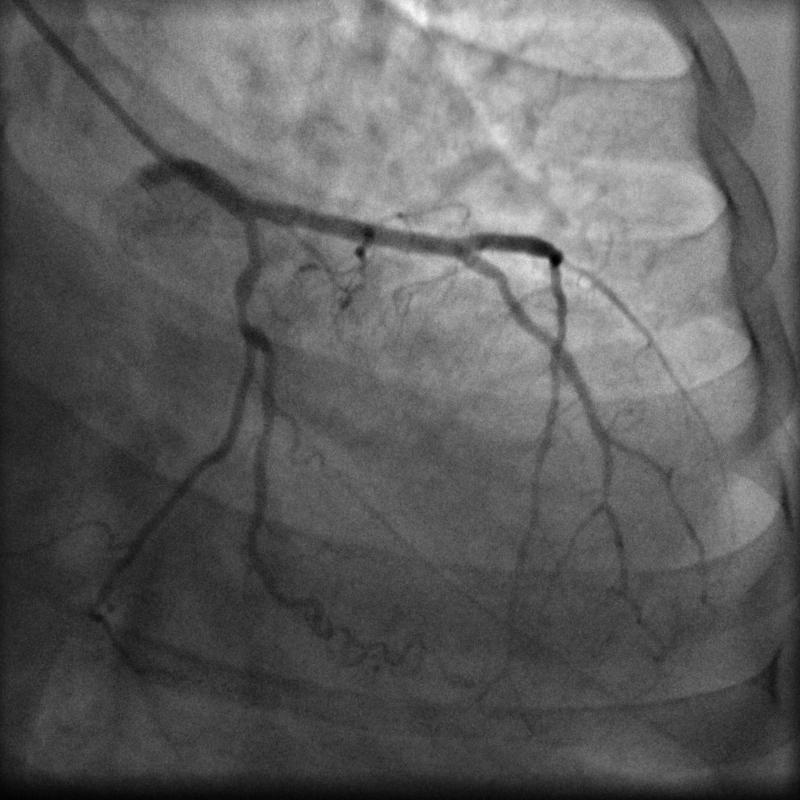Stenosis: (225, 287, 267, 331)
